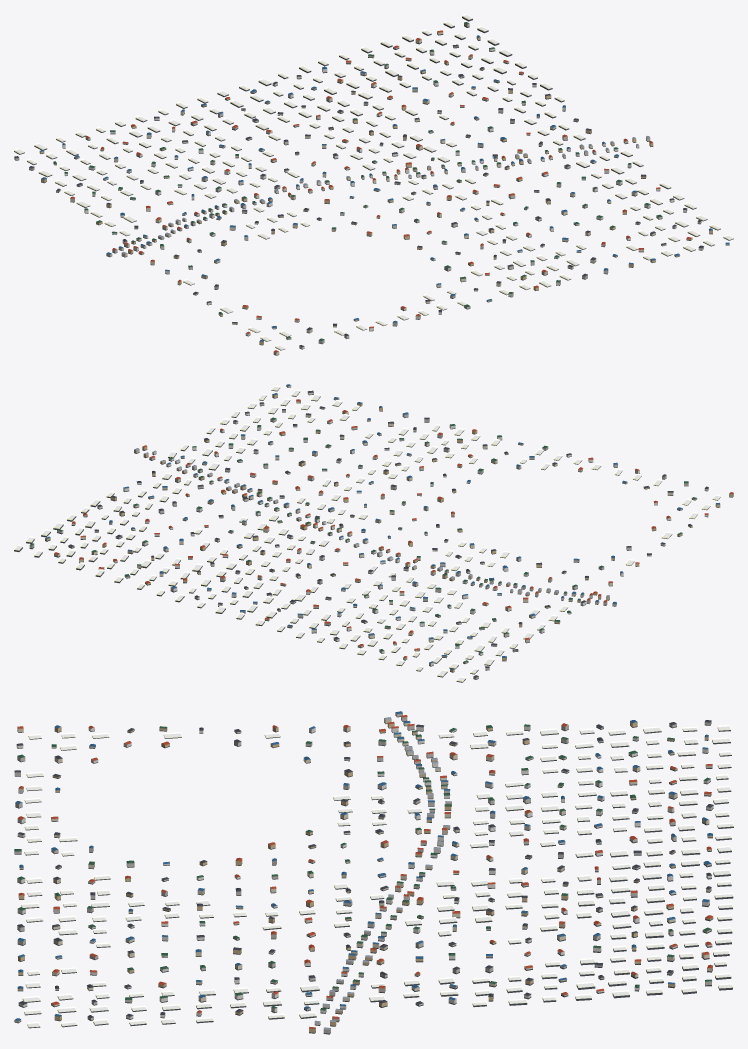
The model's file is buildings_T_W02_N04.glb.
3 renders of one model, top to bottom at view 1: azimuth 30°, elevation 25°; view 2: azimuth 150°, elevation 25°; view 3: azimuth 270°, elevation 25°, orthographic. The views are drawn at different scales.
Parts seen in each view (by area): view 1: T_W02_N04_slope_seating_foundations, T_W02_N04_roofs_agri_greenhouse_arch, T_W02_N04_walls_wall_modern_warm_white, T_W02_N04_walls_wall_pastel_sand_gray, T_W02_N04_walls_wall_dalat_cream_stucco, T_W02_N04_walls_wall_french_ochre_villa, T_W02_N04_roofs_roof_slate_French_villa_hip, T_W02_N04_roofs_roof_terracotta_gable, T_W02_N04_roofs_roof_highland_blue_gable, T_W02_N04_roofs_roof_pine_green_hip; view 2: T_W02_N04_slope_seating_foundations, T_W02_N04_roofs_agri_greenhouse_arch, T_W02_N04_walls_wall_modern_warm_white, T_W02_N04_walls_wall_pastel_sand_gray, T_W02_N04_walls_wall_dalat_cream_stucco, T_W02_N04_walls_wall_french_ochre_villa, T_W02_N04_roofs_roof_slate_French_villa_hip, T_W02_N04_roofs_roof_terracotta_gable, T_W02_N04_roofs_roof_highland_blue_gable, T_W02_N04_roofs_roof_pine_green_hip; view 3: T_W02_N04_slope_seating_foundations, T_W02_N04_roofs_agri_greenhouse_arch, T_W02_N04_walls_wall_modern_warm_white, T_W02_N04_walls_wall_pastel_sand_gray, T_W02_N04_walls_wall_dalat_cream_stucco, T_W02_N04_walls_wall_french_ochre_villa, T_W02_N04_roofs_roof_slate_French_villa_hip, T_W02_N04_roofs_roof_terracotta_gable, T_W02_N04_roofs_roof_highland_blue_gable, T_W02_N04_roofs_roof_pine_green_hip.
Boxes of the visible parts, x1,y1,x2,y2 form: T_W02_N04_slope_seating_foundations: [14, 16, 733, 355]; T_W02_N04_roofs_agri_greenhouse_arch: [14, 14, 733, 349]; T_W02_N04_walls_wall_modern_warm_white: [62, 47, 703, 348]; T_W02_N04_walls_wall_pastel_sand_gray: [14, 23, 701, 343]; T_W02_N04_walls_wall_dalat_cream_stucco: [114, 31, 729, 355]; T_W02_N04_walls_wall_french_ochre_villa: [39, 36, 712, 344]; T_W02_N04_roofs_roof_slate_French_villa_hip: [14, 44, 703, 347]; T_W02_N04_roofs_roof_terracotta_gable: [70, 30, 692, 352]; T_W02_N04_roofs_roof_highland_blue_gable: [40, 35, 729, 341]; T_W02_N04_roofs_roof_pine_green_hip: [53, 22, 662, 340]; T_W02_N04_slope_seating_foundations: [14, 386, 733, 682]; T_W02_N04_roofs_agri_greenhouse_arch: [14, 385, 720, 681]; T_W02_N04_walls_wall_modern_warm_white: [57, 392, 708, 665]; T_W02_N04_walls_wall_pastel_sand_gray: [29, 403, 688, 679]; T_W02_N04_walls_wall_dalat_cream_stucco: [54, 385, 733, 647]; T_W02_N04_walls_wall_french_ochre_villa: [45, 394, 720, 671]; T_W02_N04_roofs_roof_slate_French_villa_hip: [68, 390, 708, 677]; T_W02_N04_roofs_roof_terracotta_gable: [54, 399, 733, 658]; T_W02_N04_roofs_roof_highland_blue_gable: [46, 384, 719, 670]; T_W02_N04_roofs_roof_pine_green_hip: [30, 417, 696, 662]; T_W02_N04_slope_seating_foundations: [14, 715, 733, 1034]; T_W02_N04_roofs_agri_greenhouse_arch: [21, 725, 733, 1027]; T_W02_N04_walls_wall_modern_warm_white: [16, 725, 713, 1024]; T_W02_N04_walls_wall_pastel_sand_gray: [14, 712, 712, 1033]; T_W02_N04_walls_wall_dalat_cream_stucco: [14, 718, 712, 1022]; T_W02_N04_walls_wall_french_ochre_villa: [17, 721, 713, 1032]; T_W02_N04_roofs_roof_slate_French_villa_hip: [14, 720, 713, 1017]; T_W02_N04_roofs_roof_terracotta_gable: [17, 715, 713, 1028]; T_W02_N04_roofs_roof_highland_blue_gable: [14, 711, 712, 1021]; T_W02_N04_roofs_roof_pine_green_hip: [14, 724, 711, 1010].
Bounding box in the file's own units: 1921 × 116 × 1752.
